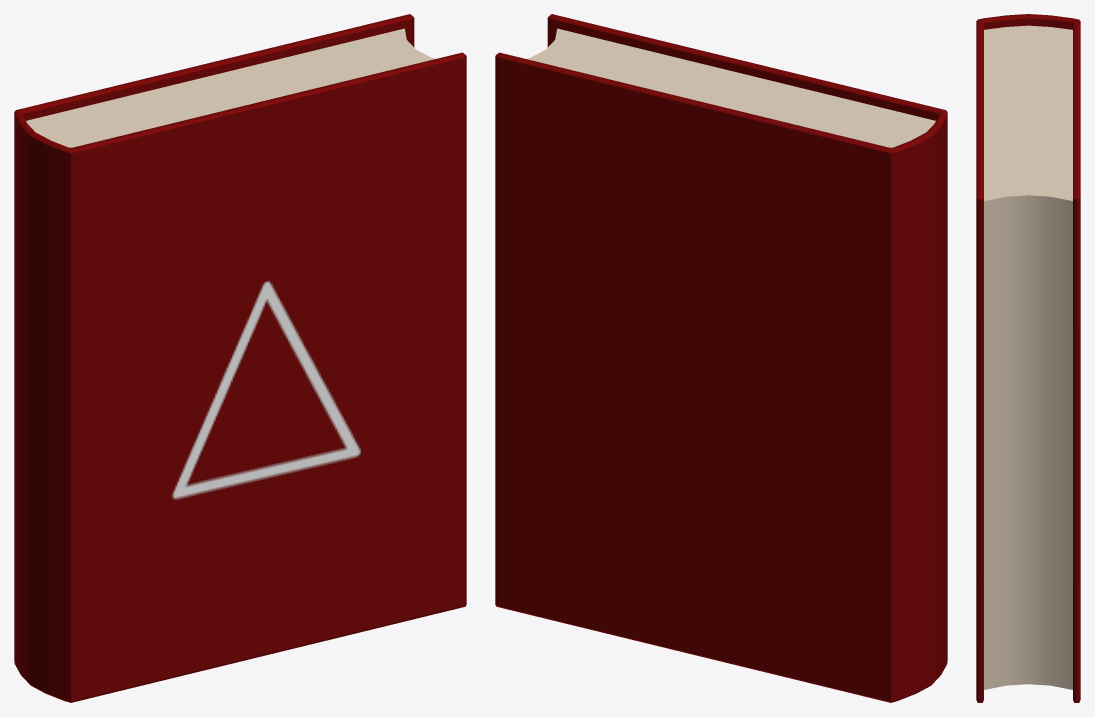
Rendered from book3.glb.
3 renders of one model, left to right at view 1: azimuth 30°, elevation 25°; view 2: azimuth 150°, elevation 25°; view 3: azimuth 270°, elevation 25°, orthographic. The views are drawn at different scales.
Parts seen in each view (by area): view 1: book3; view 2: book3; view 3: book3.
Part boxes in pixels (x1,y1,x2,y2): book3: (14,14,466,702); book3: (495,14,947,702); book3: (976,14,1080,702).
Size of the model in its own units: 0.3378 by 0.4353 by 0.0813.
Materials: 1 (1 with a texture image).
